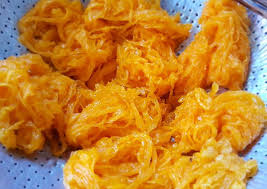foitong: (66, 139, 258, 189), (2, 60, 83, 157), (111, 15, 193, 98), (54, 13, 126, 88), (188, 2, 251, 87), (75, 87, 167, 140), (180, 92, 260, 143)
